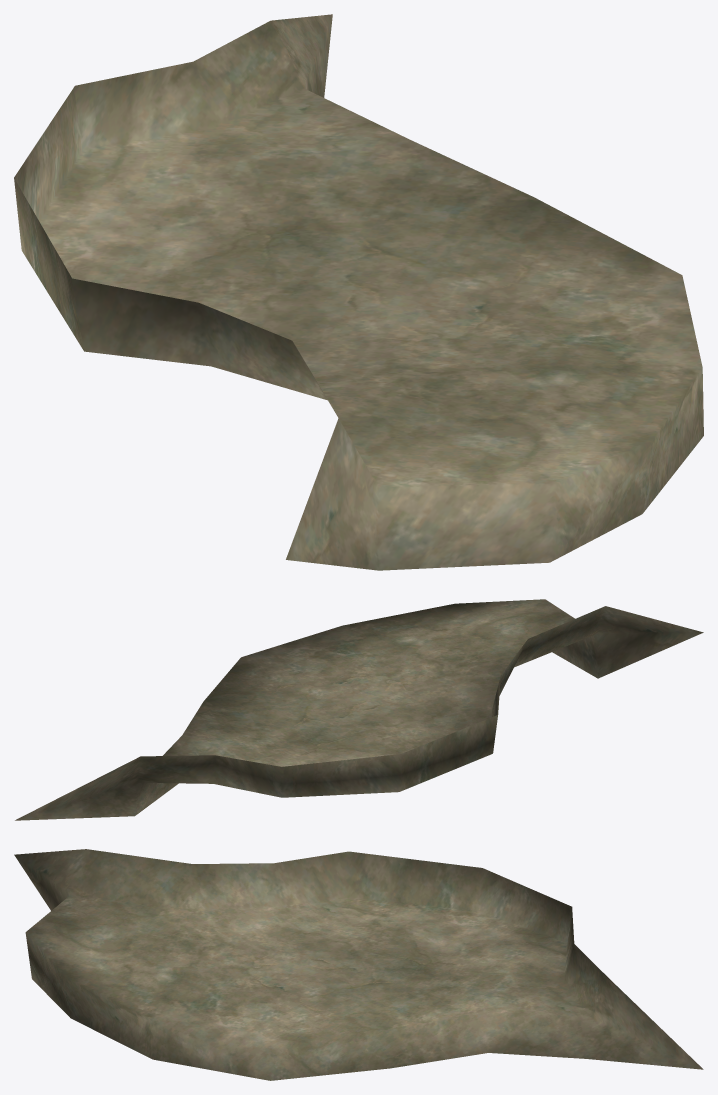
Rendered from EKH_CAVERNS_PS_CA_PLATFORM647484.fbx.
3 views of the same model, one above another, from view 1: azimuth 30°, elevation 25°; view 2: azimuth 150°, elevation 25°; view 3: azimuth 270°, elevation 25° (orthographic). The views are drawn at different scales.
Visible parts, largest first — view 1: EKH_CAVERNS_PS_CA_PLATFORM647484; view 2: EKH_CAVERNS_PS_CA_PLATFORM647484; view 3: EKH_CAVERNS_PS_CA_PLATFORM647484.
Boxes of the visible parts, x1=… form: EKH_CAVERNS_PS_CA_PLATFORM647484: x1=14, y1=14, x2=703, y2=570; EKH_CAVERNS_PS_CA_PLATFORM647484: x1=15, y1=599, x2=703, y2=820; EKH_CAVERNS_PS_CA_PLATFORM647484: x1=14, y1=849, x2=703, y2=1080.
Bounding box in the file's own units: 38821 × 9372 × 62403.
1 material, 1 textured.
